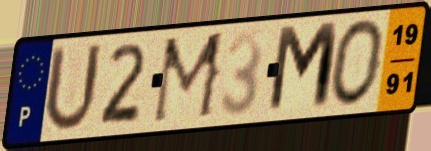2: (97, 40, 148, 130)
3: (219, 29, 266, 118)
M: (149, 29, 229, 128), (265, 18, 342, 117)
O: (328, 17, 388, 110)
U: (40, 40, 105, 136)
